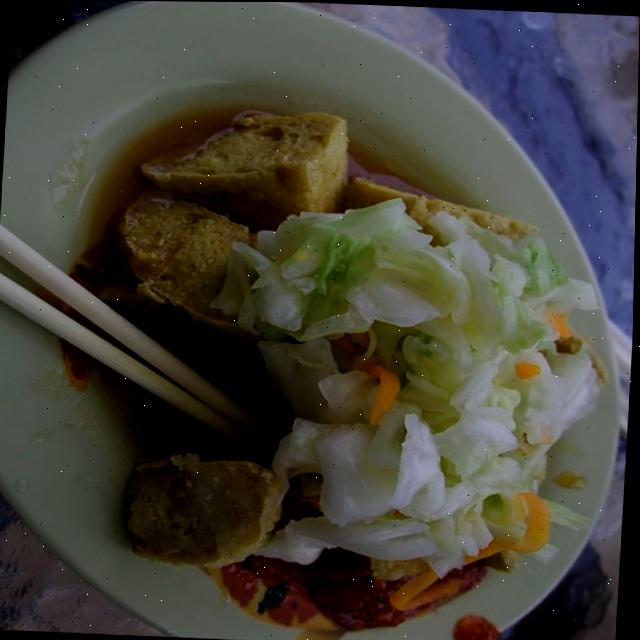豆腐料理: (0, 9, 639, 640)
